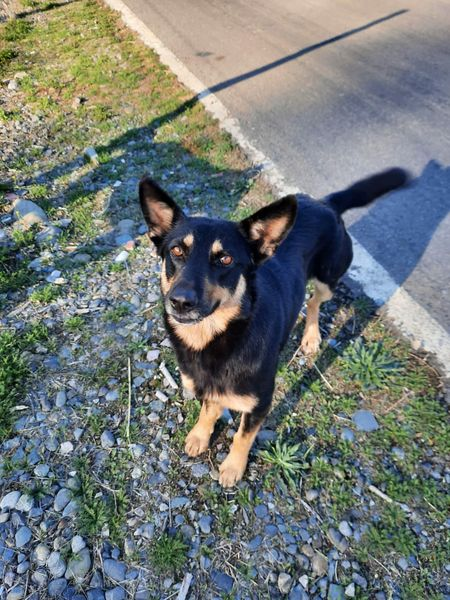dog: (133, 126, 424, 504)
